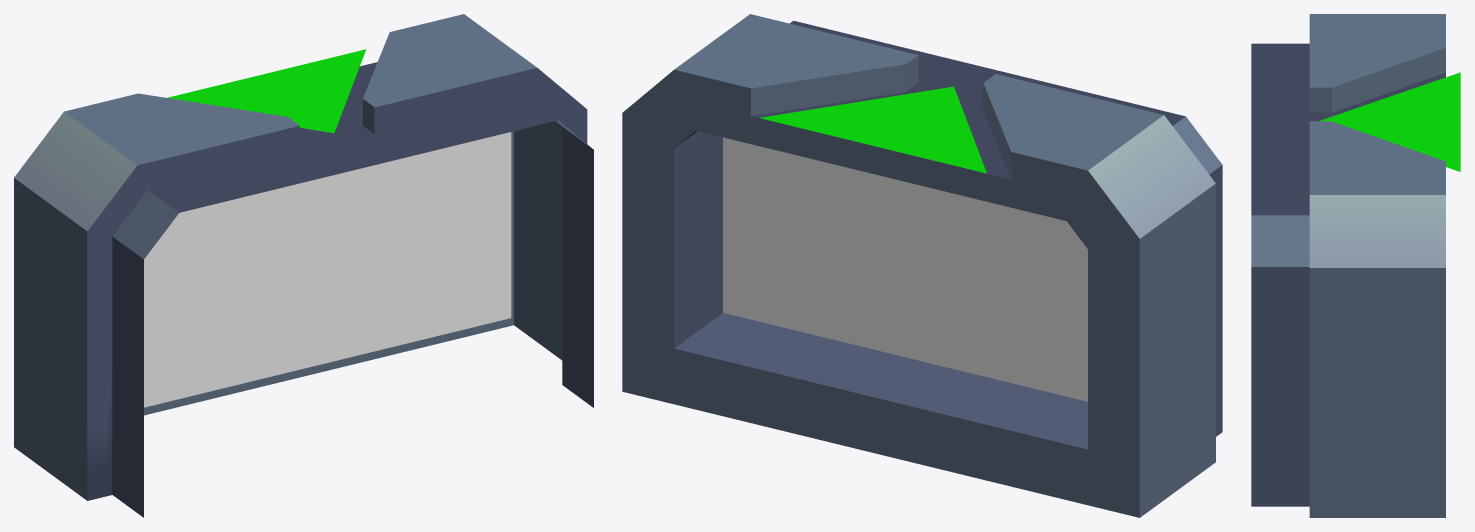
Rendered from Input.fbx.
3 views of the same model, side by side, from view 1: azimuth 30°, elevation 25°; view 2: azimuth 150°, elevation 25°; view 3: azimuth 270°, elevation 25° (orthographic). The views are drawn at different scales.
Visible parts, largest first — view 1: Input; view 2: Input; view 3: Input.
Boxes of the visible parts, <box> form: Input: <box>14,14,593,517</box>; Input: <box>622,14,1222,517</box>; Input: <box>1251,14,1460,517</box>.
Size of the model in its own units: 0.55 by 0.34 by 0.215.
